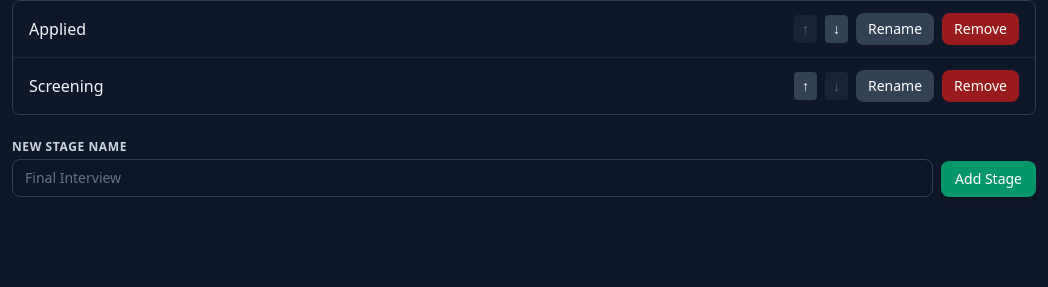
Test: StageConfigPanel › shows an error banner when removing an occupied stage returns 409 (AC-6)
This screenshot has width=1048, height=287.
Click the button "Remove" in the row of "Applied": point(981, 29) [942,13,1019,45]
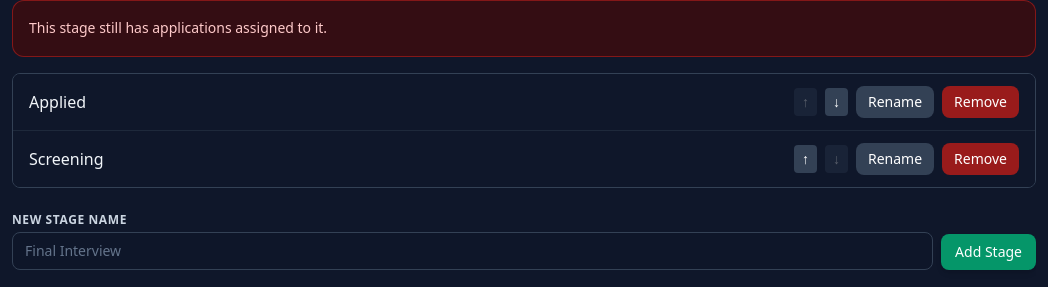
Expected: the text "Applied" is shown, [29,90,86,114]
Now the message reads "This stage still has applications assigned to it.", box [29,18,327,37]
